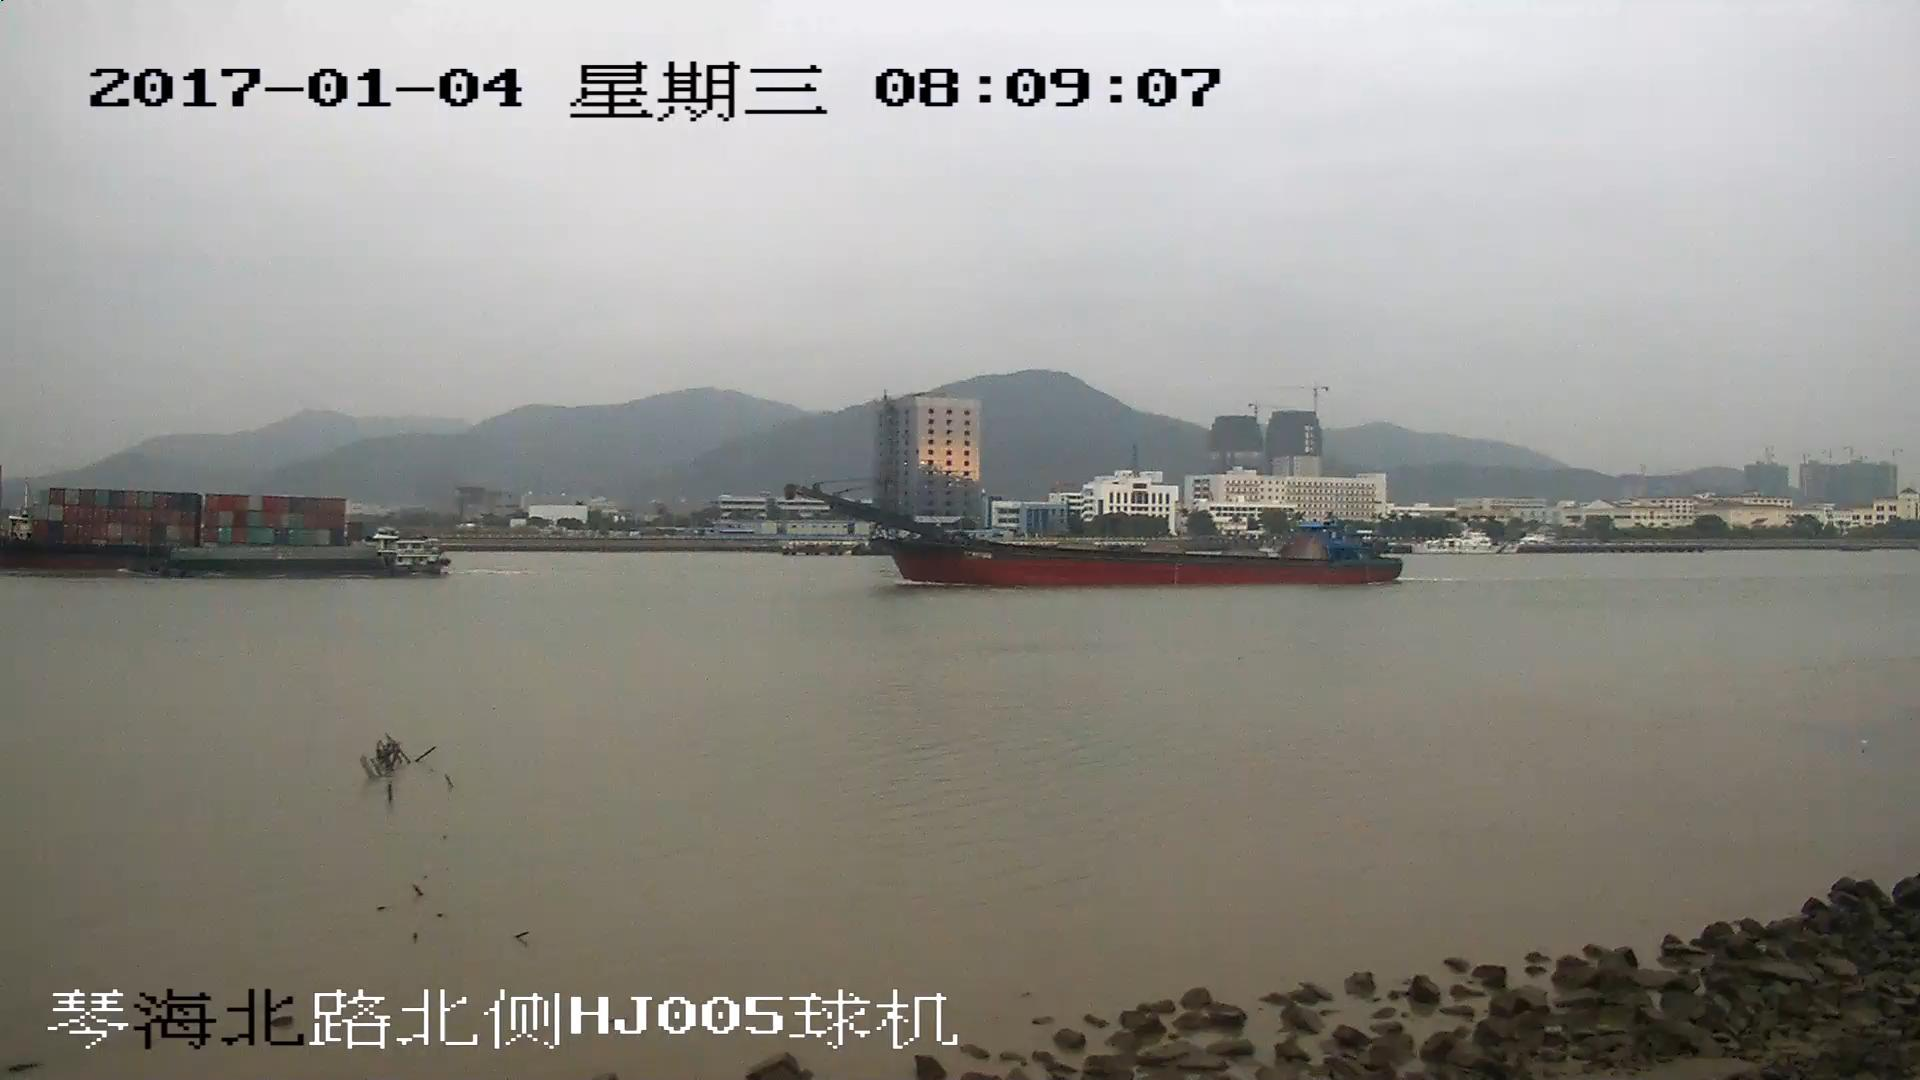Ship: (793, 488, 1400, 585), (3, 492, 446, 578)
